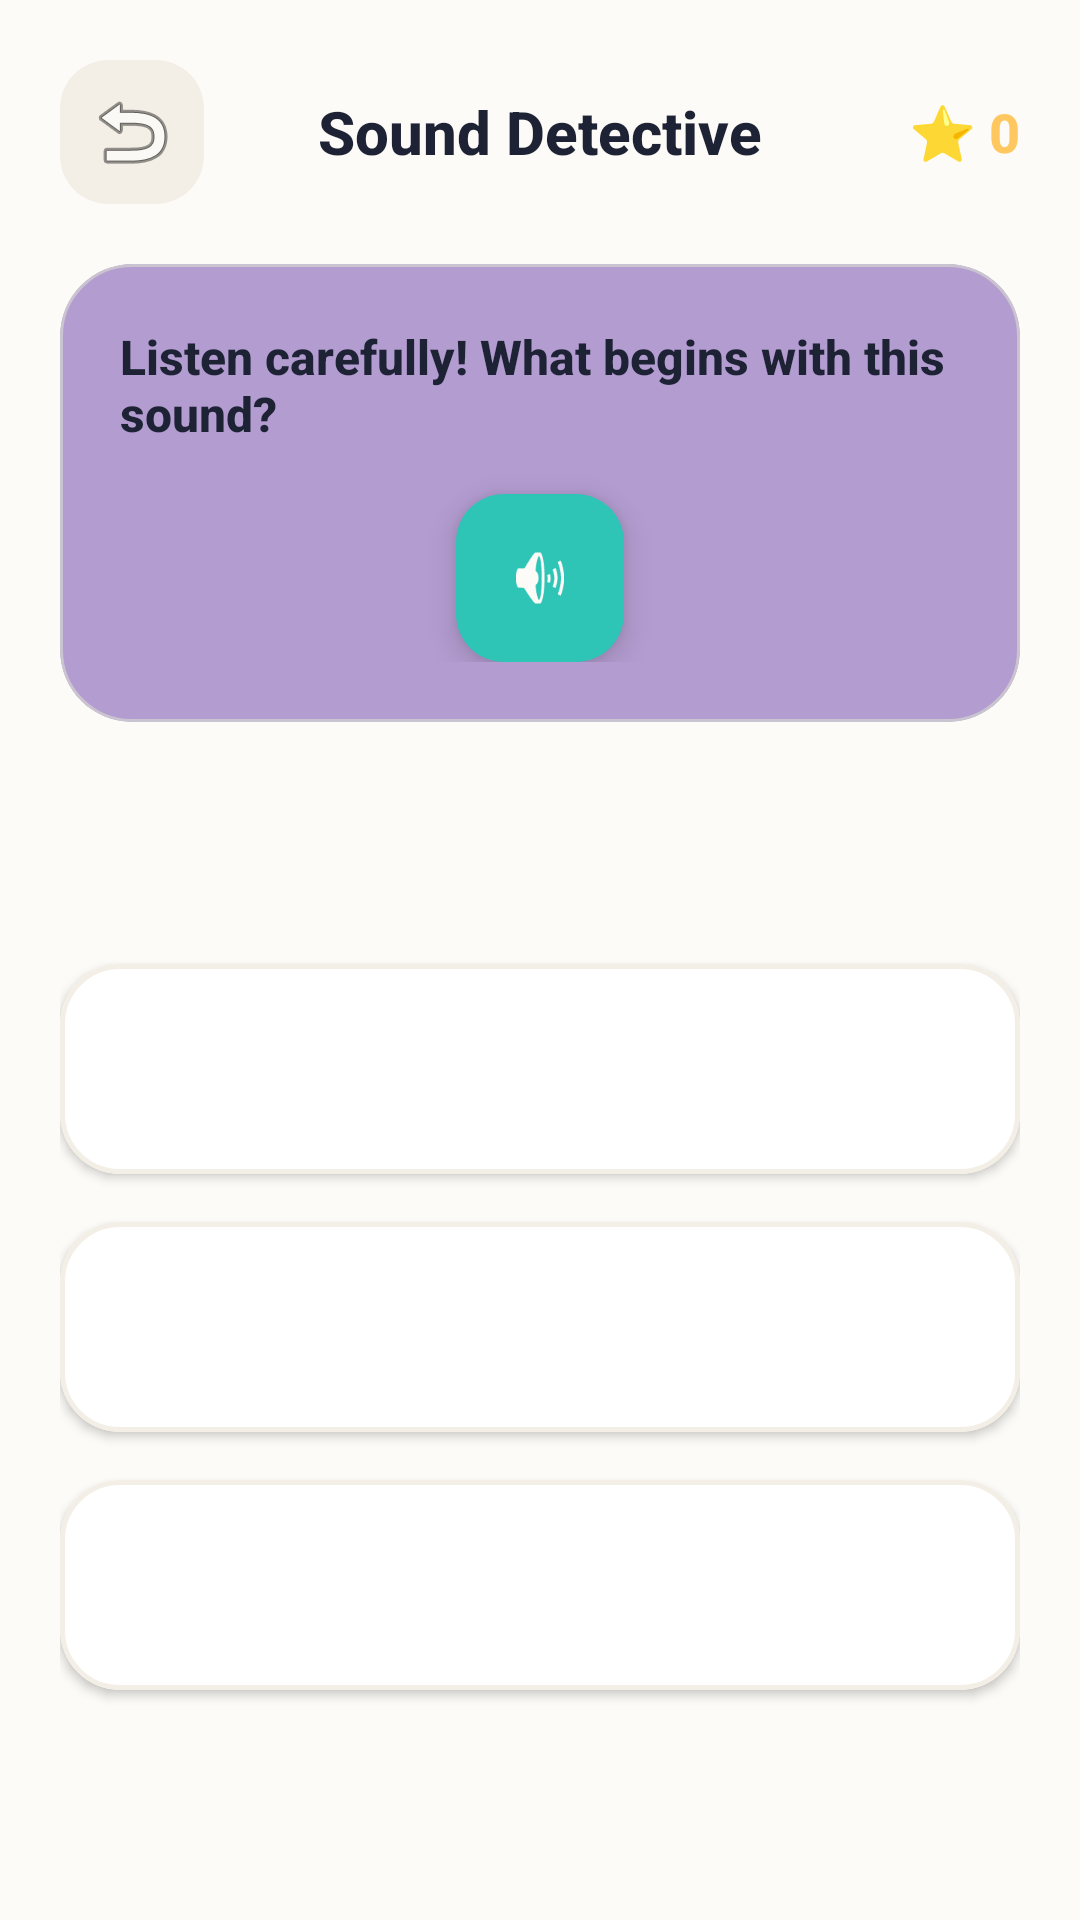

Icon bounding boxes for this 1080×1920 phone screenshot, format (x1, y1, x2, y2):
Back: (60, 60, 204, 204)
Replay sound: (456, 494, 624, 662)
